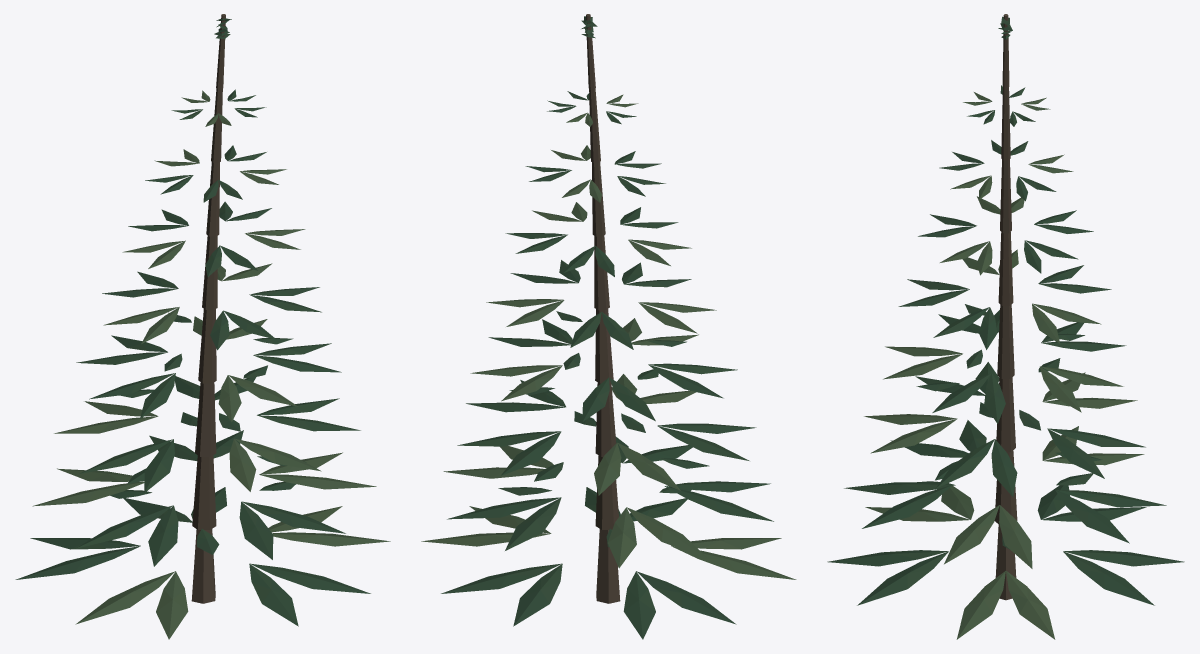
File: spruce_dry_lod.glb
The picture shows the model from 3 angles, left to right: view 1: azimuth 30°, elevation 25°; view 2: azimuth 150°, elevation 25°; view 3: azimuth 270°, elevation 25°; orthographic projection.
Parts seen in each view (by area): view 1: spruce_dry_lod; view 2: spruce_dry_lod; view 3: spruce_dry_lod.
Part boxes in pixels (x1=…): spruce_dry_lod: x1=15, y1=14, x2=390, y2=639; spruce_dry_lod: x1=421, y1=14, x2=796, y2=639; spruce_dry_lod: x1=827, y1=14, x2=1184, y2=639.
Size of the model in its own units: 2.22 by 3.81 by 2.11.
